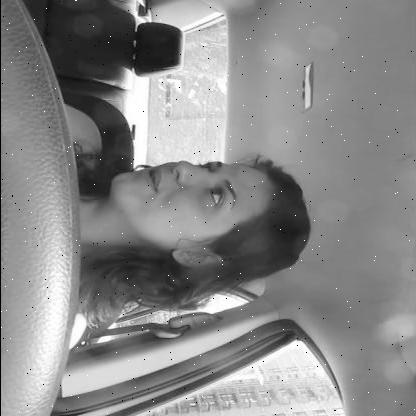no_seatbelt: (0, 143, 330, 341)
